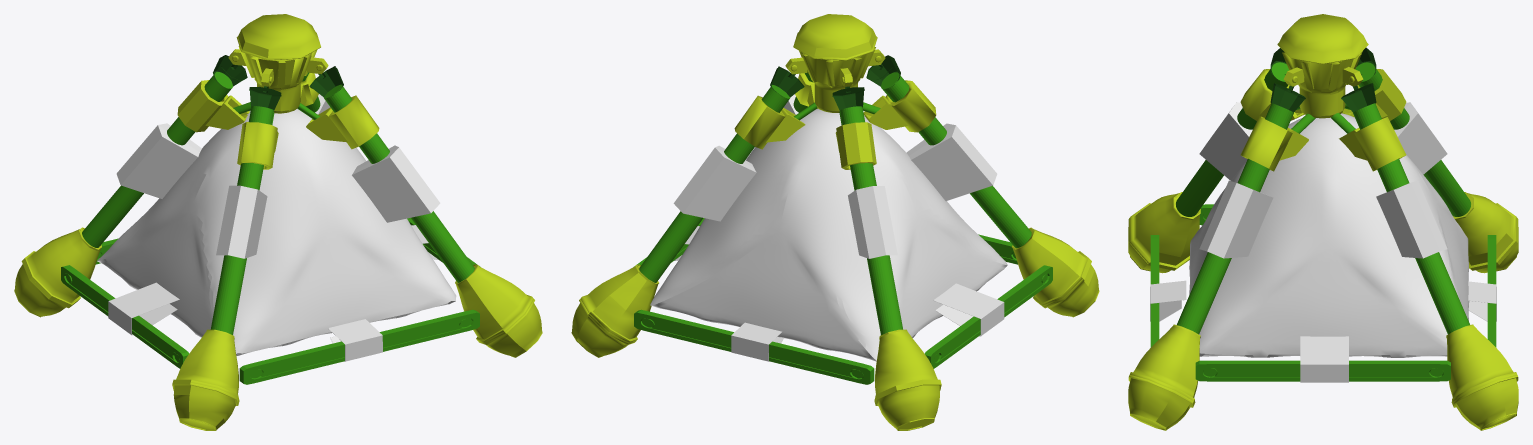
The picture shows the model from 3 angles, left to right: view 1: azimuth 30°, elevation 25°; view 2: azimuth 150°, elevation 25°; view 3: azimuth 270°, elevation 25°; orthographic projection. The views are drawn at different scales.
Parts seen in each view (by area): view 1: born_003.001; view 2: born_003.001; view 3: born_003.001.
Part boxes in pixels (bbox=[...]): born_003.001: bbox=[14, 14, 542, 430]; born_003.001: bbox=[571, 14, 1099, 430]; born_003.001: bbox=[1128, 14, 1518, 430].
Bounding box in the file's own units: 134 × 110 × 120.
